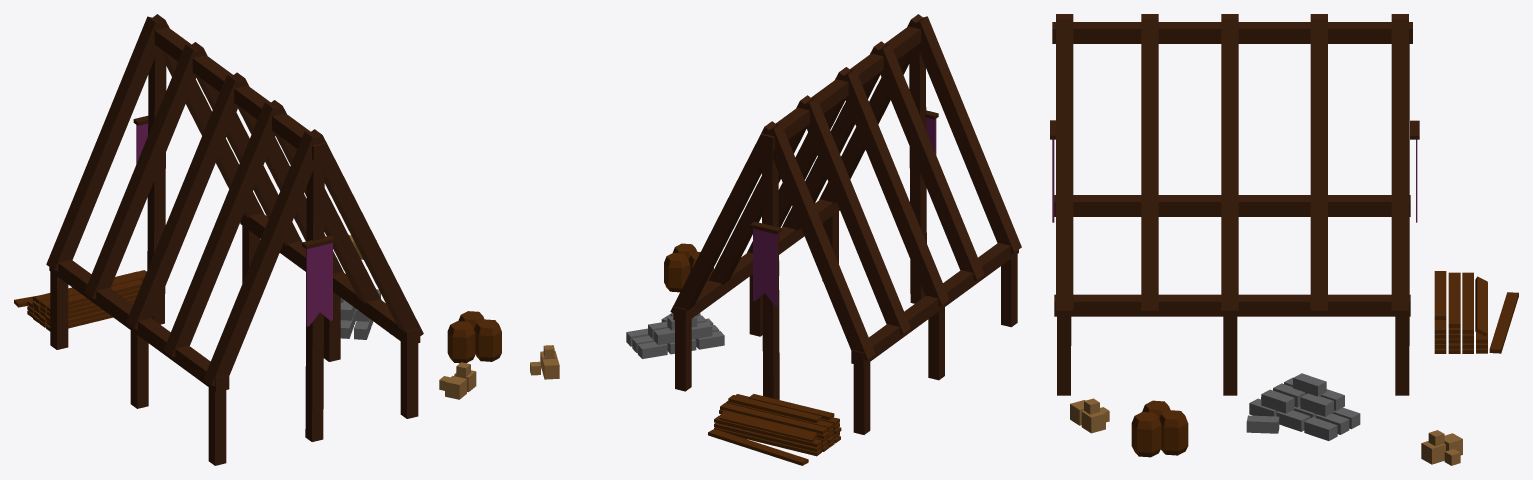
Rendered from LogHutBuildPhase2v1.fbx.
3 renders of one model, left to right at view 1: azimuth 30°, elevation 25°; view 2: azimuth 150°, elevation 25°; view 3: azimuth 270°, elevation 25°, orthographic. The views are drawn at different scales.
Parts seen in each view (by area): view 1: Cube.2228; view 2: Cube.2228; view 3: Cube.2228.
Boxes of the visible parts, box(x1,y1,x2,y2) form: Cube.2228: box(14, 14, 501, 465); Cube.2228: box(530, 14, 1021, 465); Cube.2228: box(1050, 14, 1518, 465).
Bounding box in the file's own units: 205 × 174 × 227.
